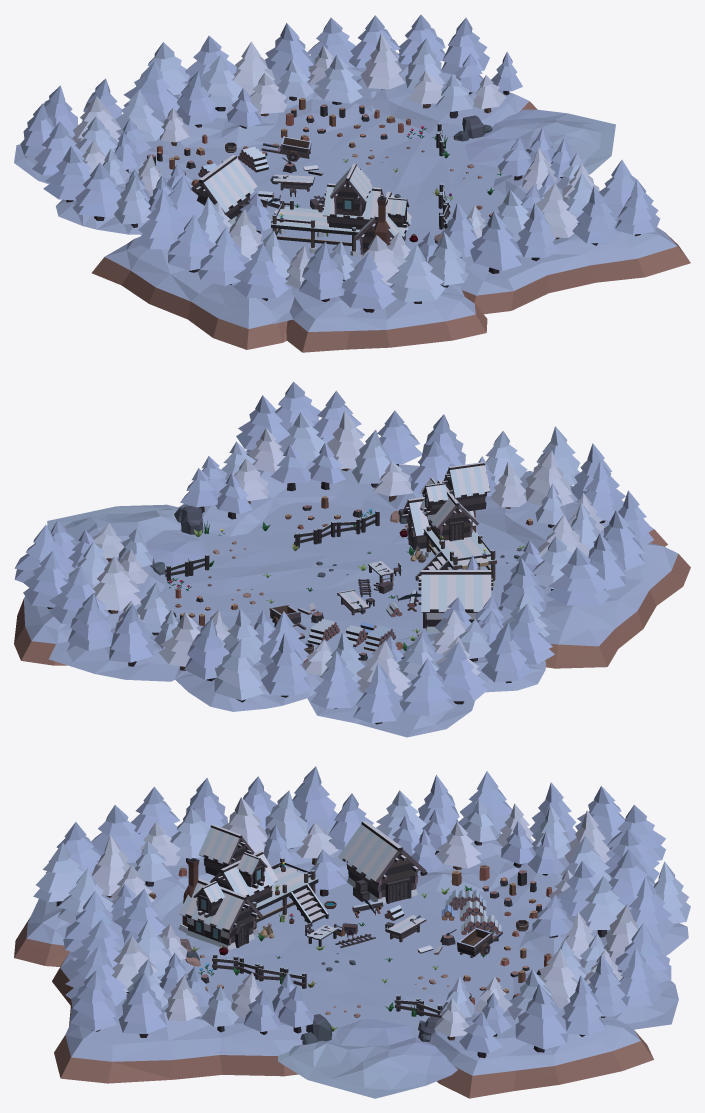
File: LumberMill_Snow.glb
The picture shows the model from 3 angles, top to bottom: view 1: azimuth 30°, elevation 25°; view 2: azimuth 150°, elevation 25°; view 3: azimuth 270°, elevation 25°; orthographic projection. The views are drawn at different scales.
Parts seen in each view (by area): view 1: TB_Env_Tile_Grass_A, TB_Env_Mound_Corner_A, TB_Env_Mound_Big_A, TB_Env_Mound_Med_A, TB_Env_LowMound_C, TB_Env_Mound_Med_A (1), TB_Bd_WoodHouse (×2), TB_Env_LowMound_A (3), TB_Env_LowMoundCir_A (1), TB_Bd_Ext_Big, TB_Env_Tree_A (6), TB_Env_Tree_C (+69 smaller); view 2: TB_Env_Tile_Grass_A, TB_Env_Mound_Big_A, TB_Env_Mound_Corner_A, TB_Env_LowMound_C, TB_Bd_WoodHouse (×2), TB_Env_Mound_Med_A (1), TB_Env_LowMound_A (3), TB_Env_Mound_Med_A, TB_Env_LowMound_A (2), TB_Env_LowMoundCir_A (1), TB_Env_Tree_A (3), TB_Env_Tree_C (11) (+66 smaller); view 3: TB_Env_Tile_Grass_A, TB_Env_Mound_Corner_A, TB_Env_Mound_Med_A (1), TB_Env_LowMound_C, TB_Bd_WoodHouse (×2), TB_Env_Mound_Med_A, TB_Env_LowMoundCir_A, TB_Env_Tree_A (22), TB_Env_Tree_A (13), TB_Env_Tree_A (12), TB_Env_LowMound_A (3), TB_Env_Tree_A (3) (+85 smaller).
Part boxes in pixels (<box>): TB_Env_Tile_Grass_A: <box>175,113,508,323</box>; TB_Env_Mound_Corner_A: <box>457,174,690,314</box>; TB_Env_Mound_Big_A: <box>91,237,294,349</box>; TB_Env_Mound_Med_A: <box>286,279,487,352</box>; TB_Env_LowMound_C: <box>464,109,615,174</box>; TB_Env_Mound_Med_A (1): <box>353,62,537,136</box>; TB_Bd_WoodHouse (×2): <box>191,155,411,258</box>; TB_Env_LowMound_A (3): <box>273,65,375,131</box>; TB_Env_LowMoundCir_A (1): <box>157,94,278,148</box>; TB_Bd_Ext_Big: <box>271,199,359,256</box>; TB_Env_Tree_A (6): <box>339,252,396,312</box>; TB_Env_Tree_C: <box>386,244,445,303</box>; TB_Env_Tile_Grass_A: <box>160,502,525,659</box>; TB_Env_Mound_Big_A: <box>498,543,690,668</box>; TB_Env_Mound_Corner_A: <box>177,446,423,536</box>; TB_Env_LowMound_C: <box>47,504,207,566</box>; TB_Bd_WoodHouse (×2): <box>401,497,492,632</box>; TB_Env_Mound_Med_A (1): <box>14,559,165,665</box>; TB_Env_LowMound_A (3): <box>49,618,206,681</box>; TB_Env_Mound_Med_A: <box>475,470,667,549</box>; TB_Env_LowMound_A (2): <box>307,659,474,737</box>; TB_Env_LowMoundCir_A (1): <box>175,651,323,711</box>; TB_Env_Tree_A (3): <box>546,547,610,605</box>; TB_Env_Tree_C (11): <box>214,639,263,702</box>; TB_Env_Tile_Grass_A: <box>161,876,544,1052</box>; TB_Env_Mound_Corner_A: <box>52,945,307,1083</box>; TB_Env_Mound_Med_A (1): <box>427,1008,653,1098</box>; TB_Env_LowMound_C: <box>278,1019,457,1098</box>; TB_Bd_WoodHouse (×2): <box>179,820,426,950</box>; TB_Env_Mound_Med_A: <box>14,860,186,966</box>; TB_Env_LowMoundCir_A: <box>416,833,519,900</box>; TB_Env_Tree_A (22): <box>515,984,567,1052</box>; TB_Env_Tree_A (13): <box>118,973,166,1037</box>; TB_Env_Tree_A (12): <box>70,970,117,1031</box>; TB_Env_LowMound_A (3): <box>513,971,678,1029</box>; TB_Env_Tree_A (3): <box>292,766,337,830</box>.
Size of the model in its own units: 56.29 by 10.18 by 57.29.
Materials: 1 (1 with a texture image).
